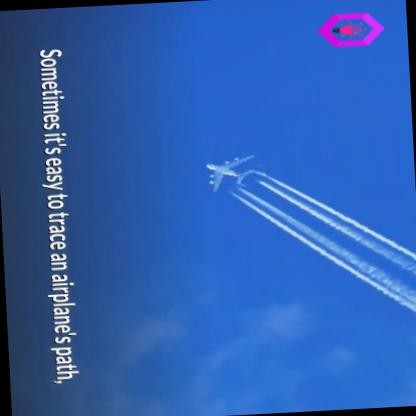plane: (194, 146, 264, 195)
